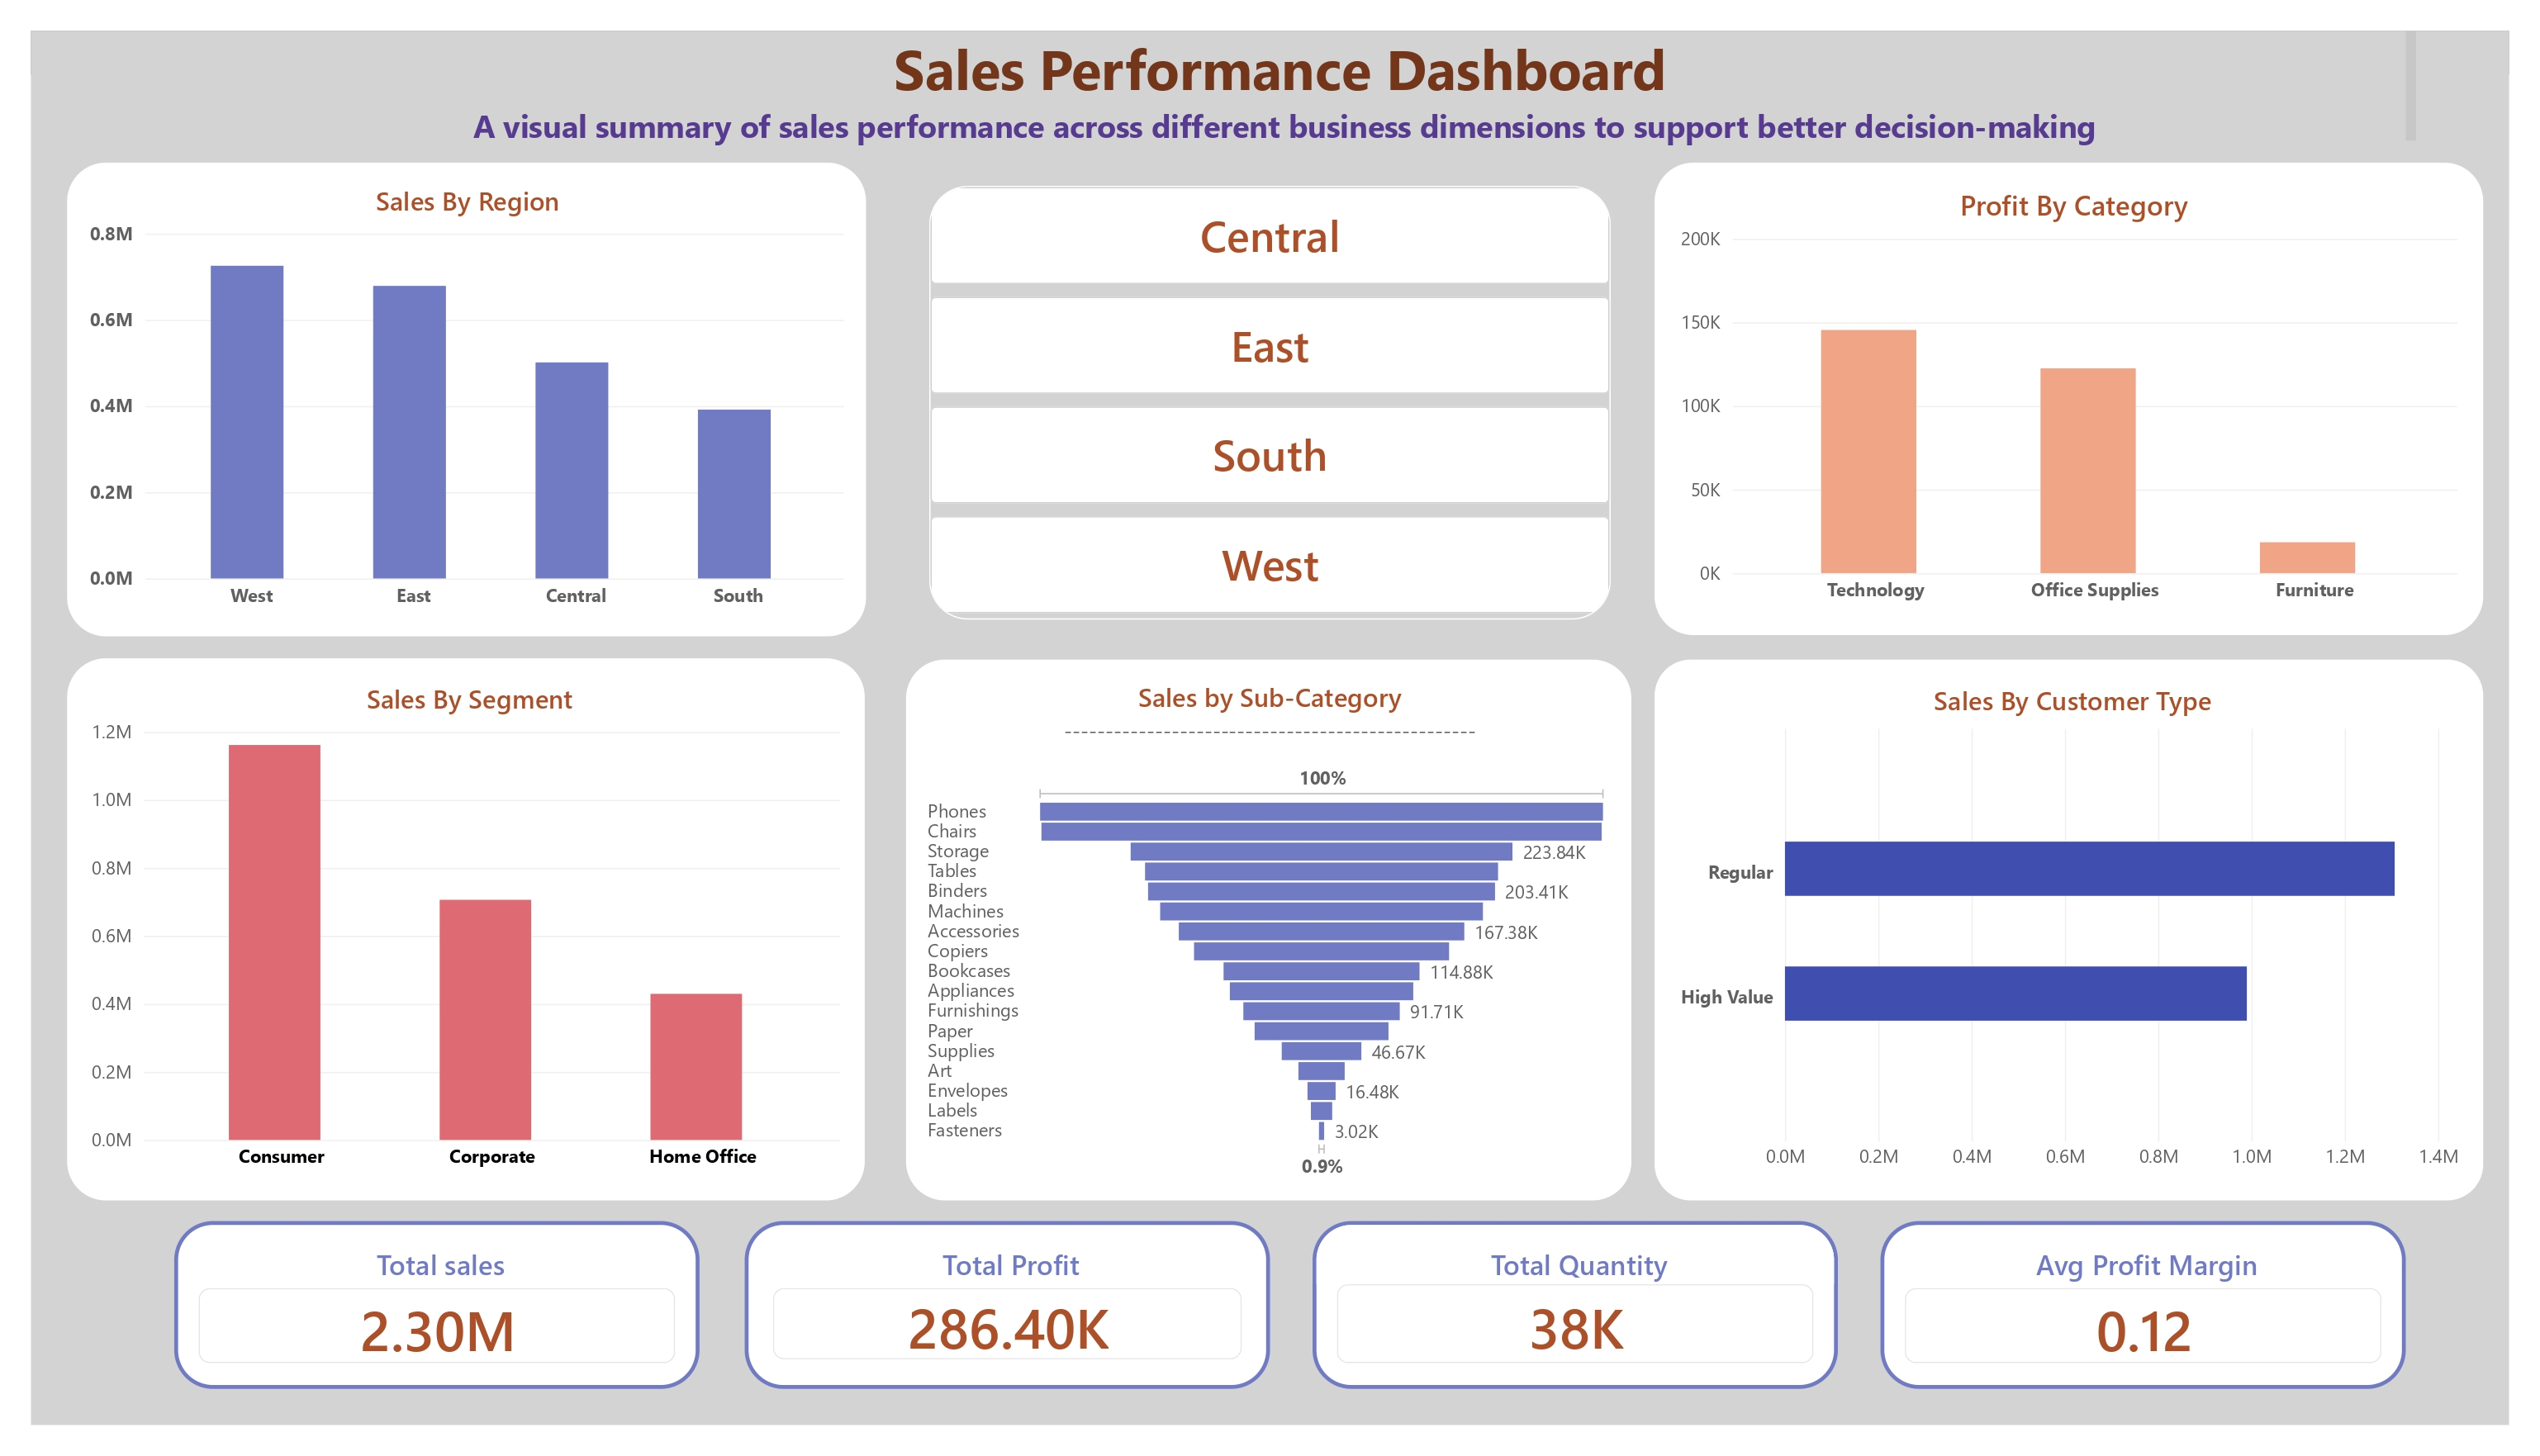

The page's visual inventory and layout, read from the dashboard file:
{"tool":"powerbi","page":{"name":"Sales Performance Dashboard ","canvas":[1920,1080],"ordinal":0},"visuals":[{"type":"cardVisual","title":"Total sales","fields":{"Data":["cleaned_data.Total Sales"]},"box":[110.6,922.4,407.1,129.4],"z":0},{"type":"cardVisual","title":"Total Profit","fields":{"Data":["cleaned_data.Total Profit"]},"box":[552.9,922.4,407.1,129.4],"z":1000},{"type":"cardVisual","title":"Total Quantity","fields":{"Data":["cleaned_data.Total Quantity"]},"box":[992.9,922.4,407.1,129.4],"z":2000},{"type":"cardVisual","title":"Avg Profit Margin","fields":{"Data":["cleaned_data.Avg Profit Margin"]},"box":[1432.9,922.4,407.1,129.4],"z":3000},{"type":"clusteredColumnChart","title":"Sales By Region","fields":{"Category":["cleaned_data.Region"],"Y":["Sum(cleaned_data.Sales)"]},"box":[28.4,101.8,619,367.1],"z":4000},{"type":"clusteredColumnChart","title":" Sales By Segment","fields":{"Category":["cleaned_data.Segment"],"Y":["Sum(cleaned_data.Sales)"]},"box":[28.4,485.5,617.4,420.5],"z":5000},{"type":"clusteredColumnChart","title":"Profit By Category","fields":{"Category":["cleaned_data.Category"],"Y":["Sum(cleaned_data.Profit)"]},"box":[1258.3,102,641.9,366.1],"z":6000},{"type":"clusteredBarChart","title":"Sales By Customer Type","fields":{"Category":["cleaned_data.Customer Type"],"Y":["Sum(cleaned_data.Sales)"]},"box":[1258.3,486.6,641.9,419.4],"z":7000},{"type":"funnel","title":"Sales by Sub-Category","fields":{"Category":["cleaned_data.Sub-Category"],"Y":["Sum(cleaned_data.Sales)"]},"box":[677.6,487.1,562.4,418.8],"z":8000},{"type":"advancedSlicerVisual","fields":{"Values":["cleaned_data.Region"]},"box":[696,120,528,336],"z":9000},{"type":"textbox","box":[96,96,1760,32],"z":10000},{"type":"textbox","box":[96,0,1752,96],"z":11000}]}

Visuals, with their boxes on the page's 1920x1080 design canvas (x1, y1, x2, y2). These are canvas units, not pixel positions in the 2540x1456 screenshot, which may show the page scaled, cropped or inside an application window:
"Total sales" cardVisual: <box>111,922,518,1052</box>
"Total Profit" cardVisual: <box>553,922,960,1052</box>
"Total Quantity" cardVisual: <box>993,922,1400,1052</box>
"Avg Profit Margin" cardVisual: <box>1433,922,1840,1052</box>
"Sales By Region" clusteredColumnChart: <box>28,102,647,469</box>
" Sales By Segment" clusteredColumnChart: <box>28,486,646,906</box>
"Profit By Category" clusteredColumnChart: <box>1258,102,1900,468</box>
"Sales By Customer Type" clusteredBarChart: <box>1258,487,1900,906</box>
"Sales by Sub-Category" funnel: <box>678,487,1240,906</box>
advancedSlicerVisual - cleaned_data.Region: <box>696,120,1224,456</box>
textbox: <box>96,96,1856,128</box>
textbox: <box>96,0,1848,96</box>
